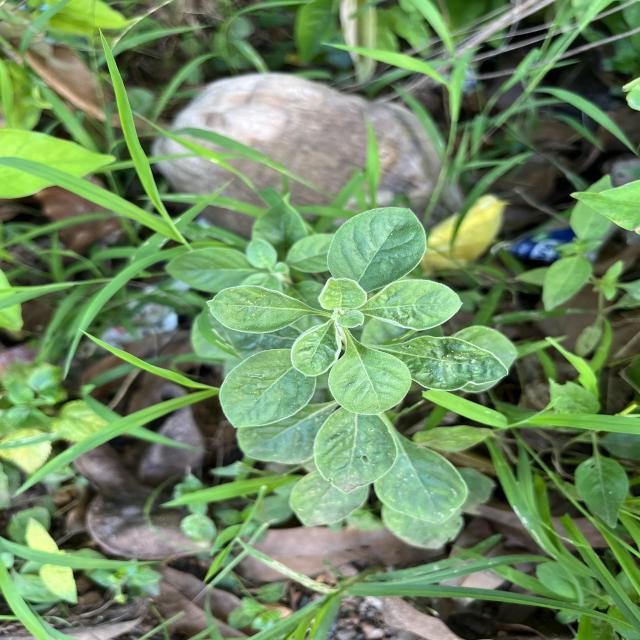Aerva lanata: (324, 204, 432, 290), (214, 346, 320, 430), (325, 336, 414, 416), (203, 283, 317, 335), (364, 276, 464, 332), (288, 318, 346, 380)
